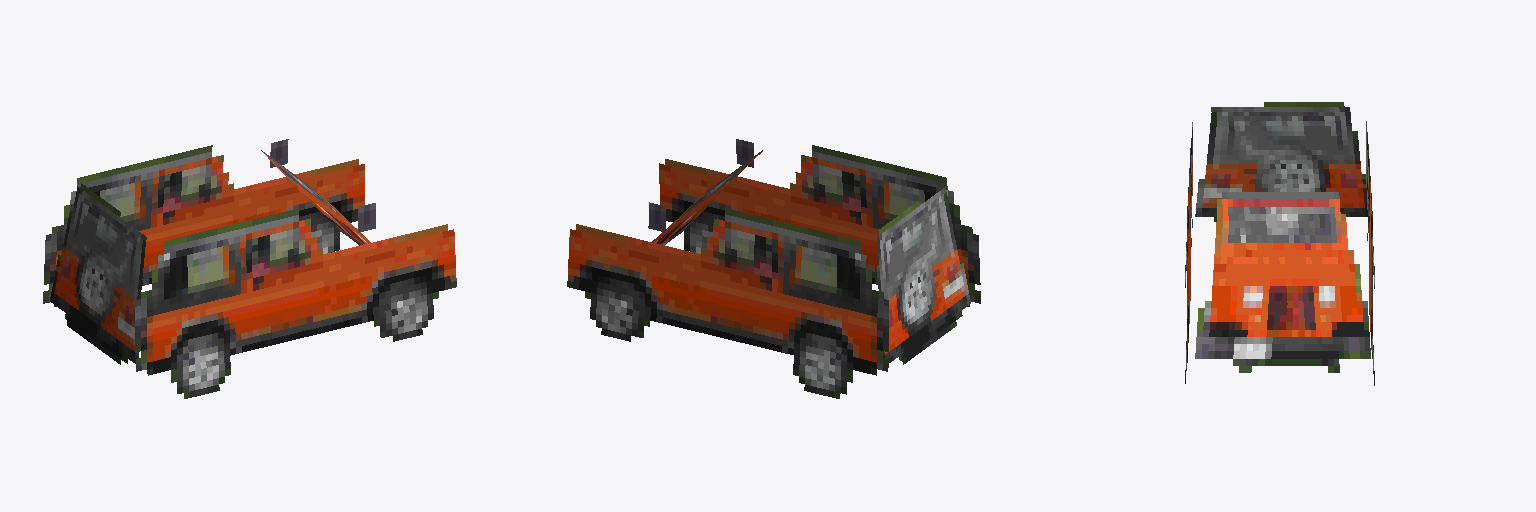
The picture shows the model from 3 angles: view 1: azimuth 30°, elevation 25°; view 2: azimuth 150°, elevation 25°; view 3: azimuth 270°, elevation 25°; orthographic projection.
Size of the model in its own units: 434 by 213 by 214.
1 materials, 1 textured.